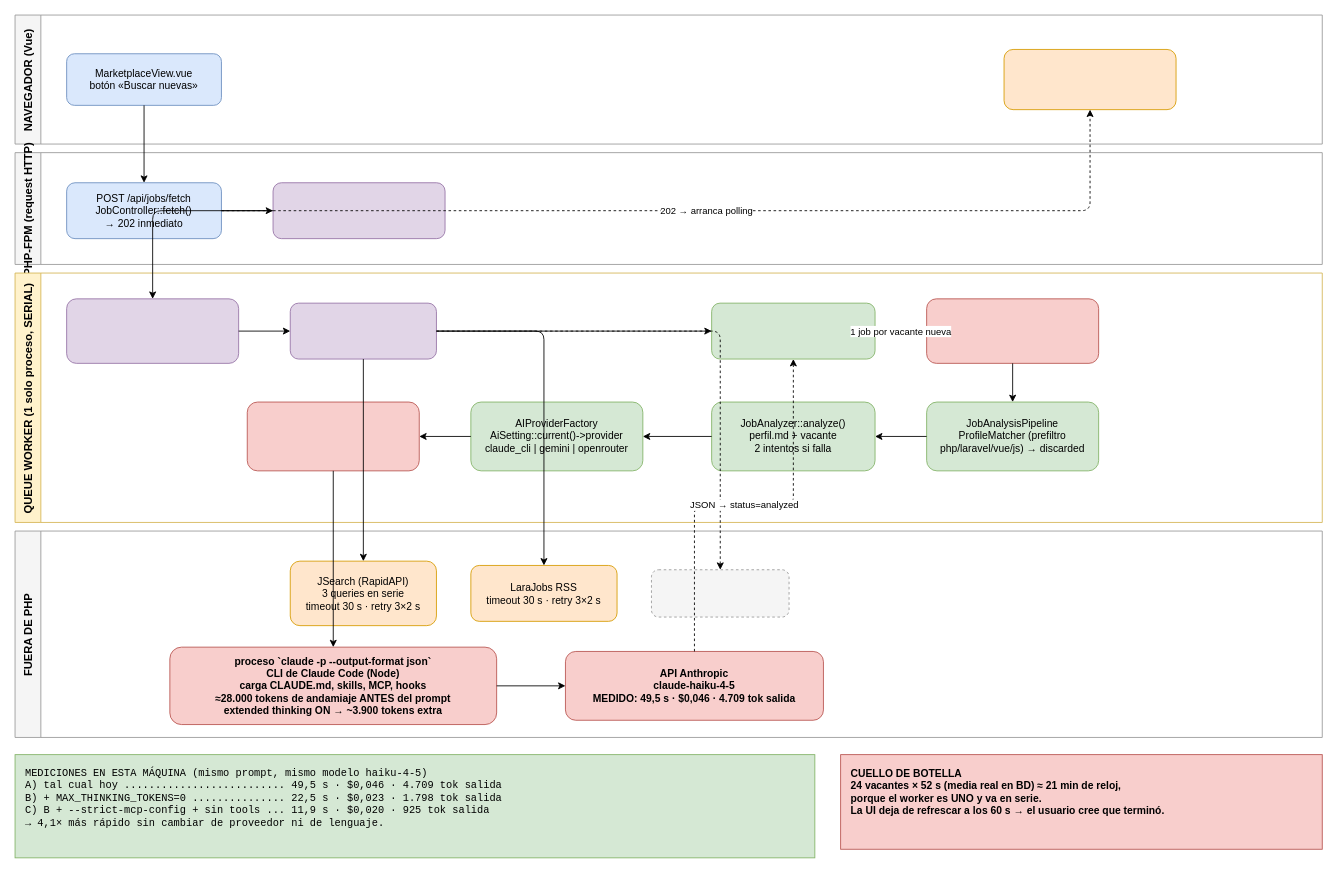
Image size: 1337x873. Some labels were removed from this diagram. The shapes that lost their labels are listed below. From the top down, each one's centre as x and y in pixels, then its label:
At (x=1089, y=79): "waitForFetch() polling cada 3 s × 20 ⚠ se rinde a los 60 s".
At (x=358, y=210): "FetchJobListings::dispatch() tabla `jobs` (driver database)".
At (x=152, y=330): "FetchJobListings timeout 600 s · tries 1 Artisan::call('jobs:fetch --queue')".
At (x=362, y=330): "JobsFetch (comando) 3 fuentes EN SERIE".
At (x=793, y=330): "firstOrCreate(hash) job_offers nuevas → status=analyzing".
At (x=1012, y=330): "AnalyzeJobListing (×N) timeout 300 s · tries 1 ⚠ una por una, sin lotes".
At (x=332, y=436): "ClaudeCliProvider Symfony Process, timeout 120 s HOME + OAUTH_TOKEN".
At (x=720, y=593): "InfoJobs (deshabilitado)".
